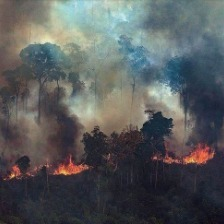incendio: (1, 127, 218, 182), (1, 78, 208, 131), (4, 14, 184, 59)
